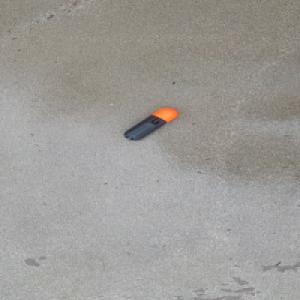PlasticPart: (122, 107, 178, 141)
